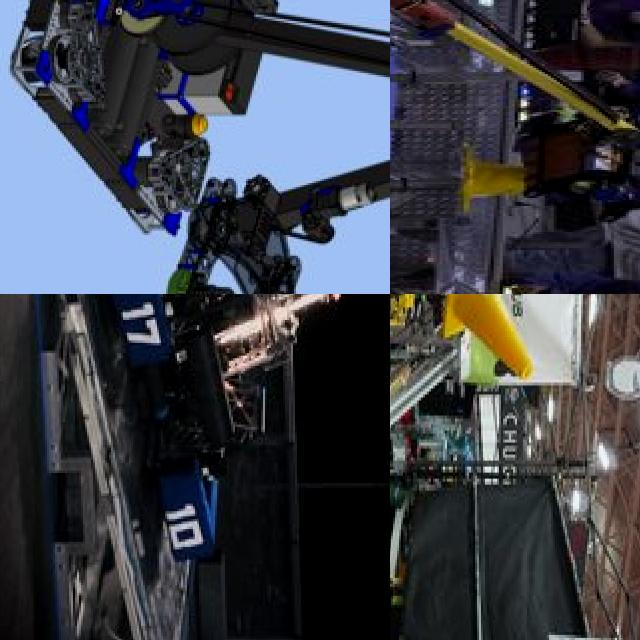FRC-Robots: (0, 0, 390, 294), (108, 294, 390, 570), (390, 294, 537, 597), (390, 0, 640, 176)
